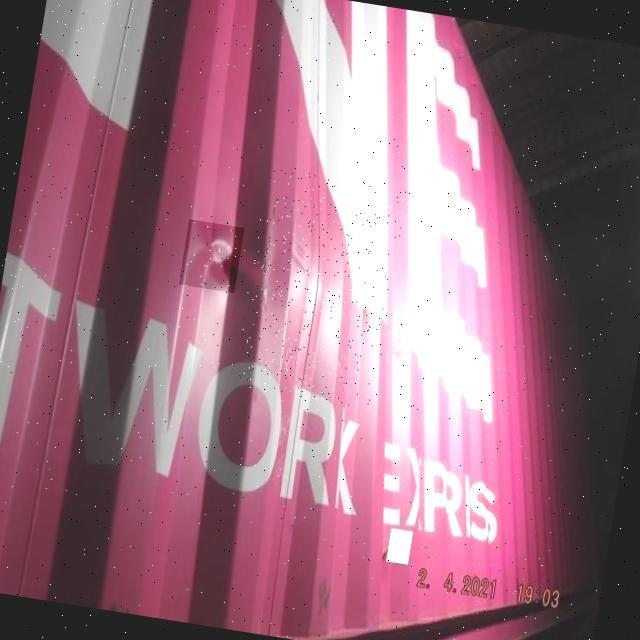Dent: (233, 167, 408, 409)
Minor-Dent: (179, 220, 245, 294)
